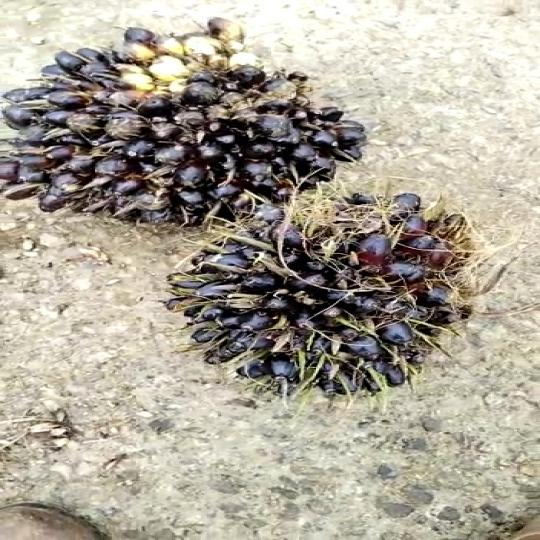mentah: (0, 12, 350, 234), (164, 189, 504, 416)
